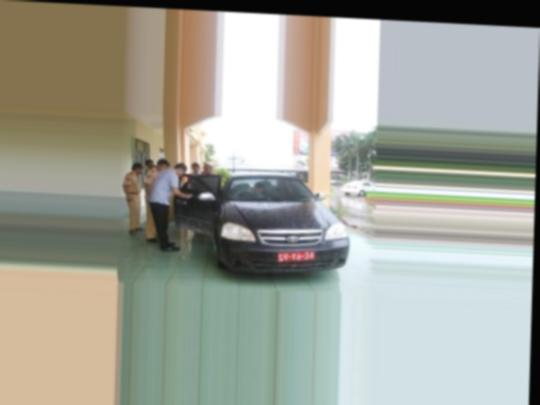License_Plate: (276, 246, 316, 268)
